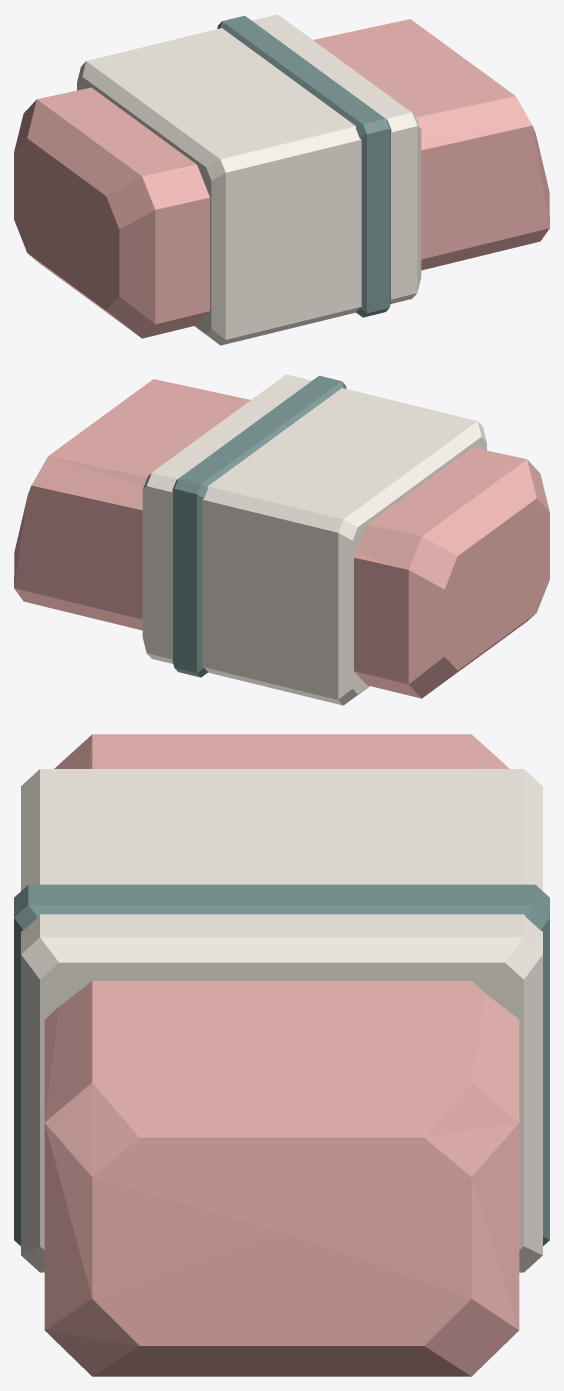
File: eraser.a2d08bd54e.glb
3 views of the same model, one above another, from view 1: azimuth 30°, elevation 25°; view 2: azimuth 150°, elevation 25°; view 3: azimuth 270°, elevation 25° (orthographic). The views are drawn at different scales.
Visible parts, largest first — view 1: eraser; view 2: eraser; view 3: eraser.
Part boxes in pixels (x1,y1,x2,y2): eraser: [14, 14, 549, 345]; eraser: [14, 374, 549, 705]; eraser: [14, 734, 549, 1376].
Size of the model in its own units: 0.9534 by 0.4049 by 0.565.
